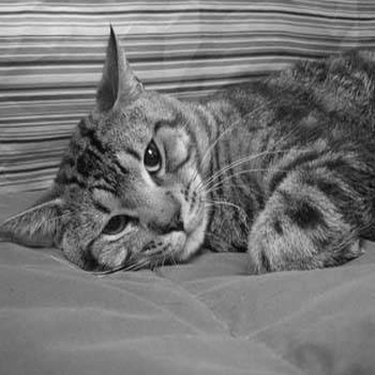cat: (3, 21, 366, 273)
